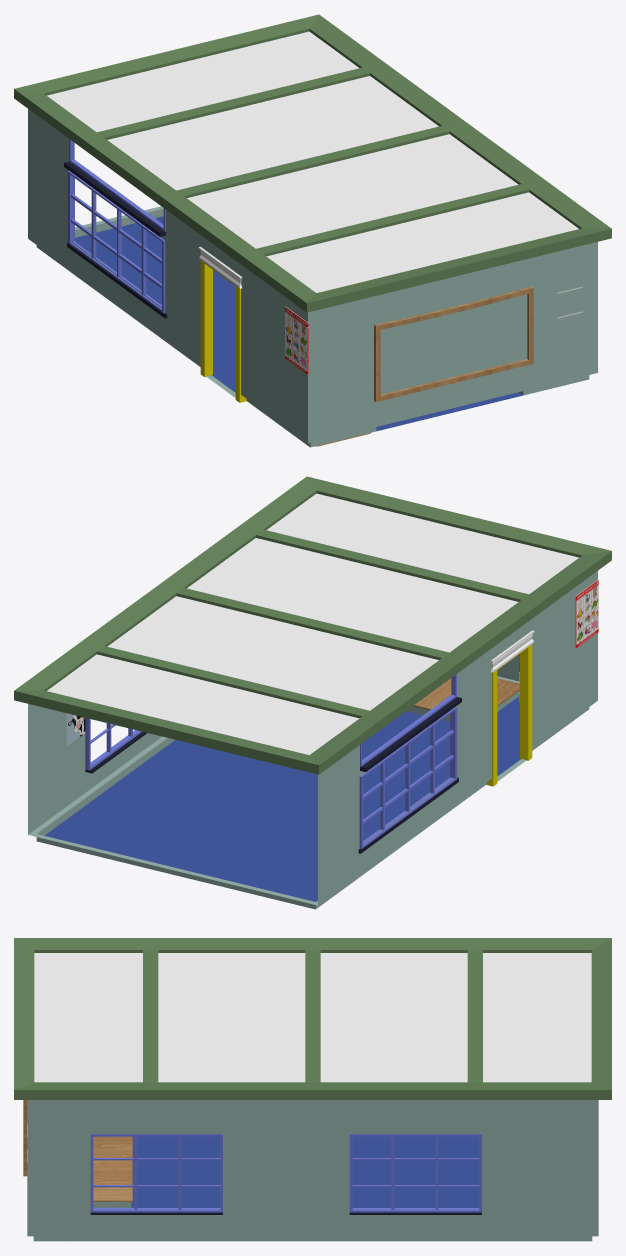
File: Class Room.fbx
The picture shows the model from 3 angles, top to bottom: view 1: azimuth 30°, elevation 25°; view 2: azimuth 150°, elevation 25°; view 3: azimuth 270°, elevation 25°; orthographic projection. The views are drawn at different scales.
Visible parts, largest first — view 1: Room, Window frame, Board, Door board, Plane.014, Window base.002, Window frame.001, Door top; view 2: Room, Window frame, Door board, Plane.014, Window base.002, Window frame.002, Window frame.001, Door top; view 3: Room, Window frame.003, Window frame.002.
Part boxes in pixels (x1,y1,x2,y2): Room: (14, 14, 611, 447); Window frame: (68, 171, 165, 313); Board: (374, 286, 533, 402); Door board: (200, 260, 246, 402); Plane.014: (285, 306, 308, 374); Window base.002: (64, 161, 165, 236); Window frame.001: (69, 139, 165, 231); Door top: (198, 247, 242, 288); Room: (14, 476, 611, 909); Window frame: (359, 706, 457, 849); Door board: (486, 644, 532, 786); Plane.014: (575, 579, 598, 648); Window base.002: (360, 697, 461, 771); Window frame.002: (85, 718, 141, 770); Window frame.001: (360, 674, 456, 767); Door top: (490, 630, 534, 672); Room: (14, 938, 611, 1241); Window frame.003: (90, 1134, 222, 1212); Window frame.002: (349, 1134, 481, 1212).
Bounding box in the file's own units: 3748 × 1841 × 6233.
